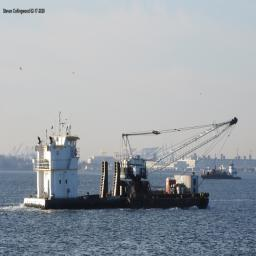tugboat: (23, 121, 211, 217)
